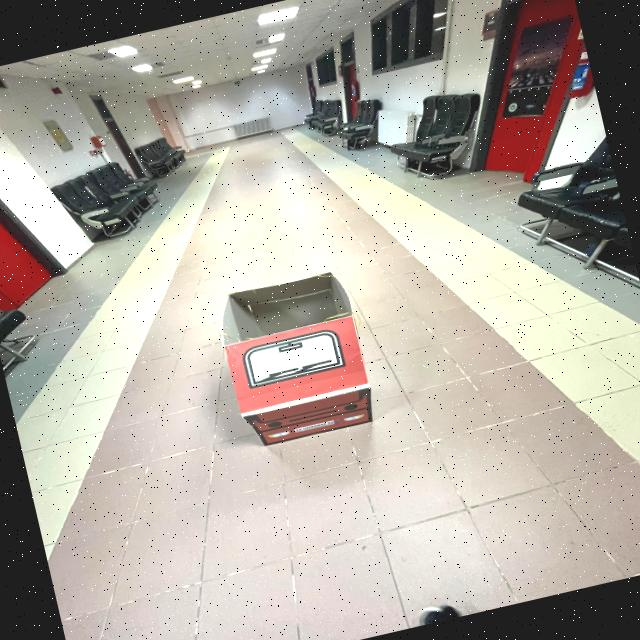red_car: (188, 250, 410, 470)
